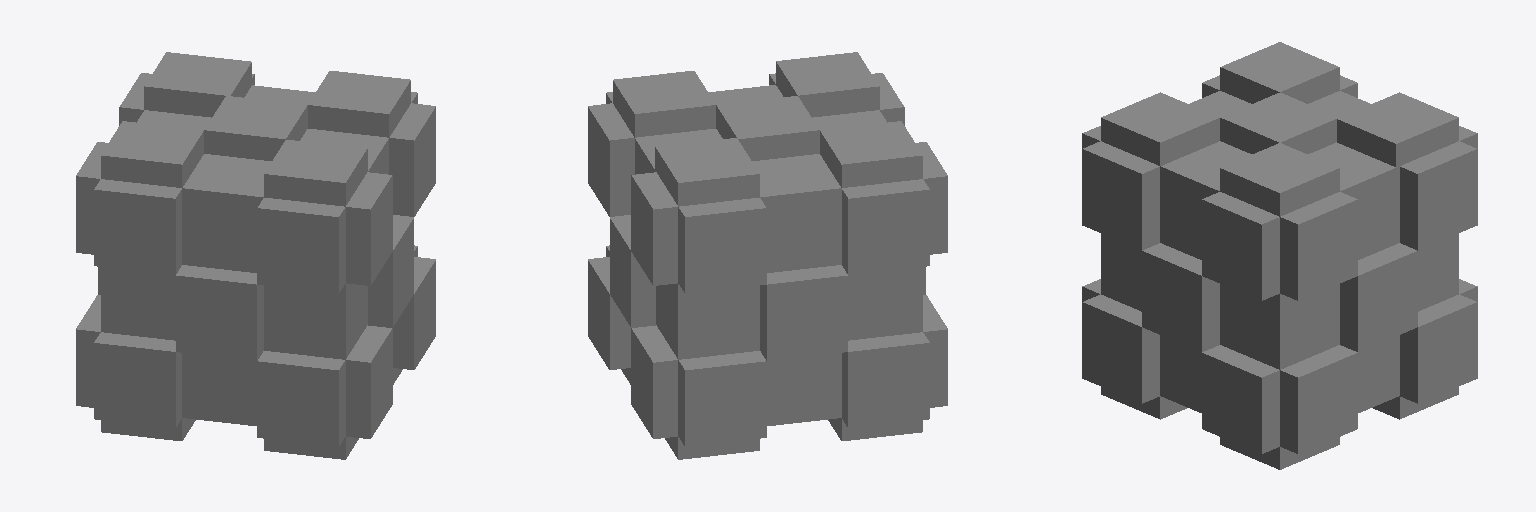
Rendered from sculpture.obj.
3 views of the same model, side by side, from view 1: azimuth 30°, elevation 25°; view 2: azimuth 150°, elevation 25°; view 3: azimuth 270°, elevation 25° (orthographic).
Parts seen in each view (by area): view 1: model_ID10; view 2: model_ID10; view 3: model_ID10.
Boxes of the visible parts, x1,y1,x2,y2 form: model_ID10: [76, 52, 435, 459]; model_ID10: [588, 52, 947, 459]; model_ID10: [1082, 42, 1477, 469].
Size of the model in its own units: 5.13 by 3.97 by 5.13.